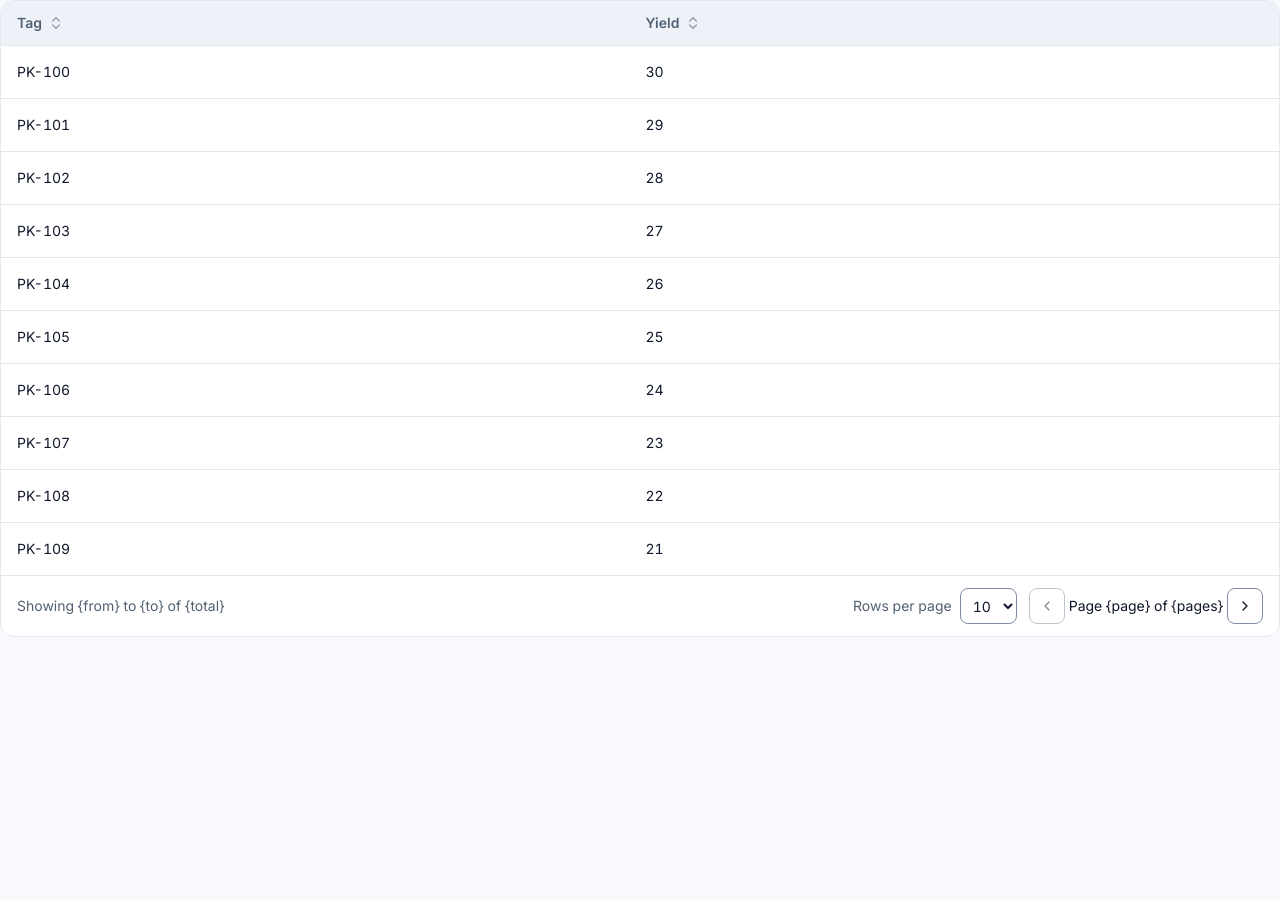
Scenario: DataTable › sorts by a column and exposes aria-sort
// Numbers sort largest-first on the first click, then flip.
Click the button "Yield": (673, 23) [641,13,705,33]
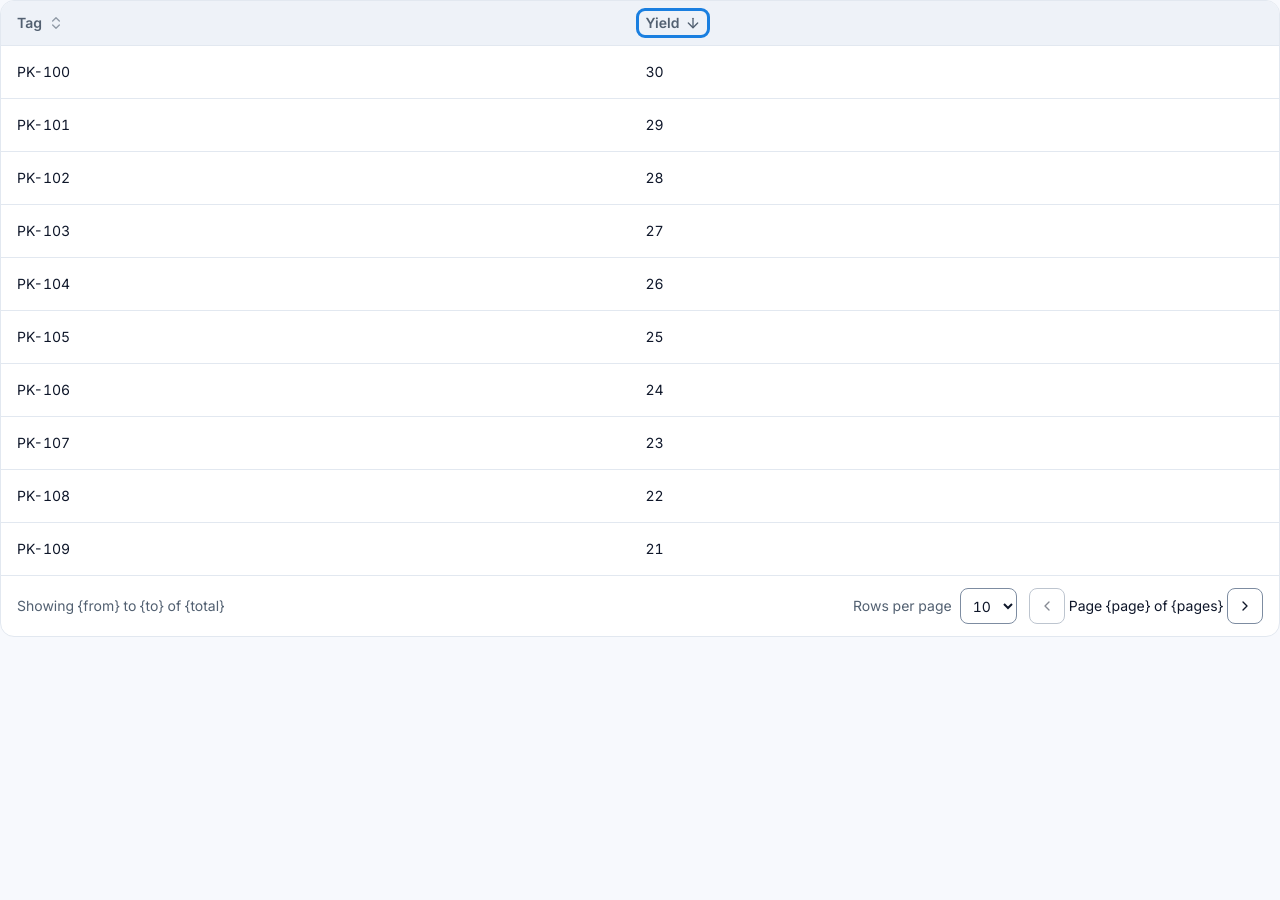
Now the column heading "Yield" has attribute aria-sort="descending", box [629,1,1279,46]
Click the button "Yield": (673, 23) [641,13,705,33]
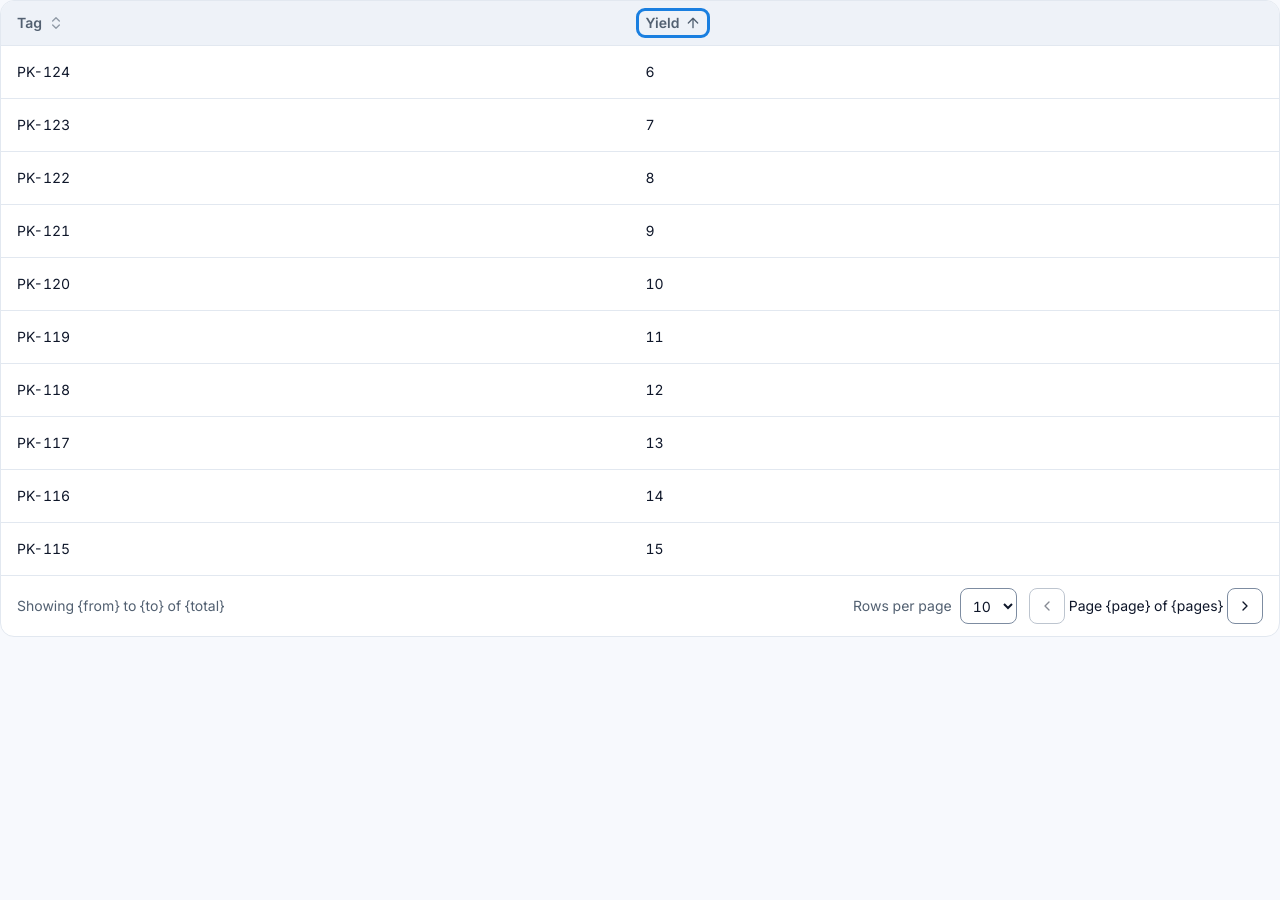
Expected: the row "PK-124 6" is shown, [1,46,1279,98]
Now the text "PK-124" is shown, box [1,46,629,98]
